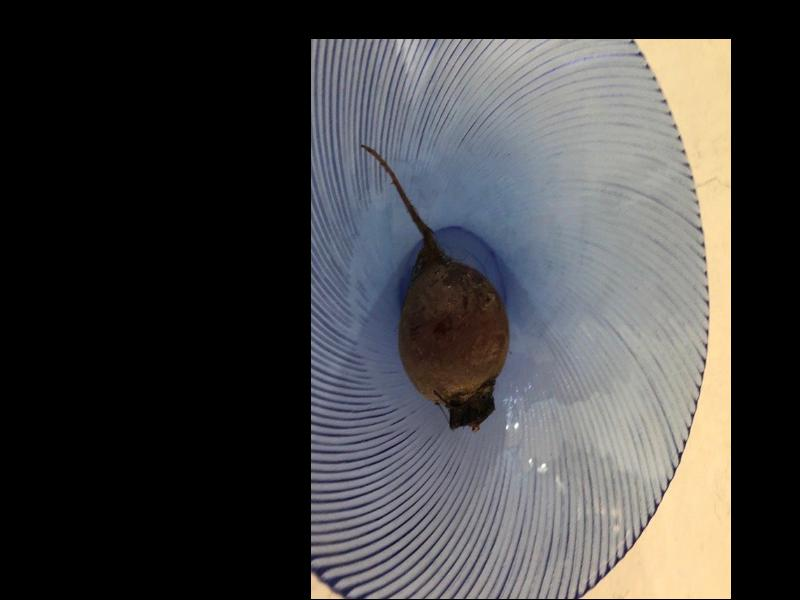Beet: (361, 145, 507, 429)
